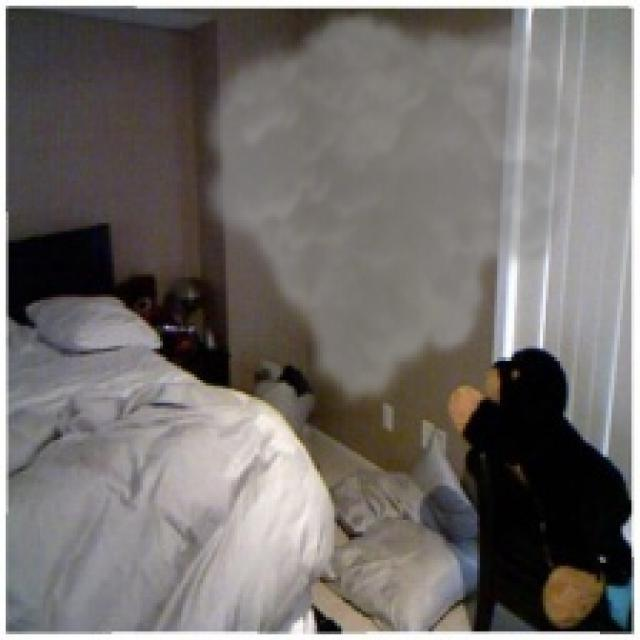Smoke: (191, 6, 583, 414)
